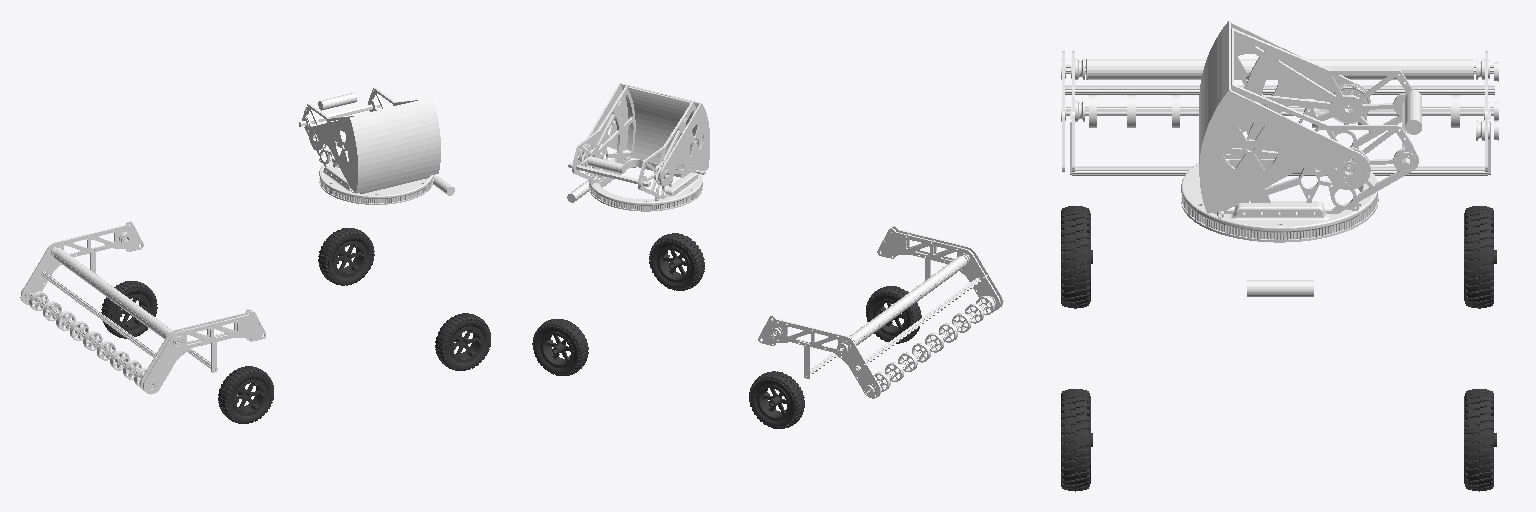
robot.urdf — swerve_robot:
<?xml version="1.0" ?>
<!-- =================================================================================== -->
<!-- |    This document was autogenerated by xacro from [local-path]/robot-frc/src/robot_urdf/urdf/swerve_robot.urdf.xacro | -->
<!-- |    EDITING THIS FILE BY HAND IS NOT RECOMMENDED                                 | -->
<!-- =================================================================================== -->
<robot name="swerve_robot" xmlns:xacro="http://www.ros.org/wiki/xacro">
  <material name="blue">
    <color rgba="0 0 0.8 1.0"/>
  </material>
  <material name="black">
    <color rgba="0.3 0.3 0.3 0.9"/>
  </material>
  <material name="white">
    <color rgba="1 1 1 0.6"/>
  </material>
  <!-- Base -->
  <link name="base_link">
    <visual>
      <geometry>
        <mesh filename="package://robot_urdf/meshes/base.stl"/>
      </geometry>
      <origin rpy="1.57075 0 1.57075" xyz="-0.08 -0.525 0.0"/>
      <material name="blue"/>
    </visual>
    <collision>
      <geometry>
        <box size="0.68 0.68 0.36"/>
      </geometry>
      <origin rpy="0 0 0" xyz="0.1 0 0.221"/>
    </collision>
    <collision>
      <geometry>
        <box size="0.3 0.68 0.12"/>
      </geometry>
      <origin rpy="0 0 0" xyz="-0.32 0 0.1"/>
    </collision>
    <inertial>
      <mass value="27"/>
      <inertia ixx="3.44123325" ixy="0.0" ixz="0.0" iyy="3.13929225" iyz="0.0" izz="1.815741"/>
    </inertial>
  </link>
  <!-- Right Wheels -->
  <link name="front_right_module">
    <inertial>
      <mass value="0.453592"/>
      <inertia ixx="0.4" ixy="0.0" ixz="0.0" iyy="0.4" iyz="0.0" izz="0.2"/>
    </inertial>
  </link>
  <joint name="base_to_front_right_module" type="continuous">
    <parent link="base_link"/>
    <child link="front_right_module"/>
    <axis xyz="0 0 1"/>
    <origin xyz="0.315 -0.29 0.028"/>
  </joint>
  <link name="front_right_wheel">
    <visual>
      <geometry>
        <mesh filename="package://robot_urdf/meshes/wheel.stl"/>
      </geometry>
      <origin rpy="0 1.57075 1.57075" xyz="0 -0.0127 0"/>
      <material name="black"/>
    </visual>
    <collision>
      <geometry>
        <cylinder length="0.0254" radius="0.0762"/>
      </geometry>
      <origin rpy="0 1.57075 1.57075" xyz="0 -0.0127 0"/>
    </collision>
    <inertial>
      <mass value="0.453592"/>
      <inertia ixx="0.4" ixy="0.0" ixz="0.0" iyy="0.4" iyz="0.0" izz="0.2"/>
    </inertial>
  </link>
  <joint name="module_to_front_right_wheel" type="continuous">
    <parent link="front_right_module"/>
    <child link="front_right_wheel"/>
    <axis xyz="0 1 0"/>
    <origin xyz="0 0 0"/>
  </joint>
  <link name="back_right_module">
    <inertial>
      <mass value="0.453592"/>
      <inertia ixx="0.4" ixy="0.0" ixz="0.0" iyy="0.4" iyz="0.0" izz="0.2"/>
    </inertial>
  </link>
  <joint name="base_to_back_right_module" type="continuous">
    <parent link="base_link"/>
    <child link="back_right_module"/>
    <axis xyz="0 0 1"/>
    <origin xyz="-0.334 -0.29 0.028"/>
  </joint>
  <link name="back_right_wheel">
    <visual>
      <geometry>
        <mesh filename="package://robot_urdf/meshes/wheel.stl"/>
      </geometry>
      <origin rpy="0 1.57075 1.57075" xyz="0 -0.0127 0"/>
      <material name="black"/>
    </visual>
    <collision>
      <geometry>
        <cylinder length="0.0254" radius="0.0762"/>
      </geometry>
      <origin rpy="0 1.57075 1.57075" xyz="0 -0.0127 0"/>
    </collision>
    <inertial>
      <mass value="0.453592"/>
      <inertia ixx="0.4" ixy="0.0" ixz="0.0" iyy="0.4" iyz="0.0" izz="0.2"/>
    </inertial>
  </link>
  <joint name="module_to_back_right_wheel" type="continuous">
    <parent link="back_right_module"/>
    <child link="back_right_wheel"/>
    <axis xyz="0 1 0"/>
    <origin xyz="0 0 0"/>
  </joint>
  <!-- Left Wheels -->
  <link name="front_left_module">
    <inertial>
      <mass value="0.453592"/>
      <inertia ixx="0.4" ixy="0.0" ixz="0.0" iyy="0.4" iyz="0.0" izz="0.2"/>
    </inertial>
  </link>
  <joint name="base_to_front_left_wheel" type="continuous">
    <parent link="base_link"/>
    <child link="front_left_module"/>
    <axis xyz="0 0 1"/>
    <origin xyz="0.315 0.29 0.028"/>
  </joint>
  <link name="front_left_wheel">
    <visual>
      <geometry>
        <mesh filename="package://robot_urdf/meshes/wheel.stl"/>
      </geometry>
      <origin rpy="0 1.57075 1.57075" xyz="0 0.0127 0"/>
      <material name="black"/>
    </visual>
    <collision>
      <geometry>
        <cylinder length="0.0254" radius="0.0762"/>
      </geometry>
      <origin rpy="0 1.57075 1.57075" xyz="0 0.0127 0"/>
    </collision>
    <inertial>
      <mass value="0.453592"/>
      <inertia ixx="0.4" ixy="0.0" ixz="0.0" iyy="0.4" iyz="0.0" izz="0.2"/>
    </inertial>
  </link>
  <joint name="module_to_front_left_wheel" type="continuous">
    <parent link="front_left_module"/>
    <child link="front_left_wheel"/>
    <axis xyz="0 1 0"/>
    <origin xyz="0 0 0"/>
  </joint>
  <link name="back_left_module">
    <inertial>
      <mass value="0.453592"/>
      <inertia ixx="0.4" ixy="0.0" ixz="0.0" iyy="0.4" iyz="0.0" izz="0.2"/>
    </inertial>
  </link>
  <joint name="base_to_back_left_module" type="continuous">
    <parent link="base_link"/>
    <child link="back_left_module"/>
    <axis xyz="0 0 1"/>
    <origin xyz="-0.334 0.29 0.028"/>
  </joint>
  <link name="back_left_wheel">
    <visual>
      <geometry>
        <mesh filename="package://robot_urdf/meshes/wheel.stl"/>
      </geometry>
      <origin rpy="0 1.57075 1.57075" xyz="0 0.0127 0"/>
      <material name="black"/>
    </visual>
    <collision>
      <geometry>
        <cylinder length="0.0254" radius="0.0762"/>
      </geometry>
      <origin rpy="0 1.57075 1.57075" xyz="0 0.0127 0"/>
    </collision>
    <inertial>
      <mass value="0.453592"/>
      <inertia ixx="0.4" ixy="0.0" ixz="0.0" iyy="0.4" iyz="0.0" izz="0.2"/>
    </inertial>
  </link>
  <joint name="module_to_back_left_wheel" type="continuous">
    <parent link="back_left_module"/>
    <child link="back_left_wheel"/>
    <axis xyz="0 1 0"/>
    <origin xyz="0 0 0"/>
  </joint>
  <!-- Intake -->
  <link name="intake_link">
    <visual>
      <geometry>
        <mesh filename="package://robot_urdf/meshes/intake.stl"/>
      </geometry>
      <origin rpy="3.14159265 0 0" xyz="-0.272 0.506 0.288"/>
      <material name="white"/>
    </visual>
    <collision>
      <geometry>
        <box size="0.36 0.63 0.09"/>
      </geometry>
      <origin rpy="0 0 0" xyz="-0.17 0 0.015"/>
    </collision>
    <collision>
      <geometry>
        <box size="0.1 0.63 0.13"/>
      </geometry>
      <origin rpy="0 0 0" xyz="-0.3 0 -0.03"/>
    </collision>
    <inertial>
      <mass value="0.453592"/>
      <inertia ixx="0.4" ixy="0.0" ixz="0.0" iyy="0.4" iyz="0.0" izz="0.2"/>
    </inertial>
  </link>
  <joint name="intake_to_base_link" type="continuous">
    <parent link="base_link"/>
    <child link="intake_link"/>
    <axis xyz="0 1 0"/>
    <origin xyz="-0.296 0 0.2"/>
  </joint>
  <!-- Turret -->
  <link name="turret_link">
    <visual>
      <geometry>
        <mesh filename="package://robot_urdf/meshes/turret.stl"/>
      </geometry>
      <origin rpy="1.57075 0 -1.57075" xyz="0.23 0.12 -0.12"/>
      <material name="white"/>
    </visual>
    <collision>
      <geometry>
        <box size="0.3 0.3 0.2"/>
      </geometry>
      <origin rpy="0 0 0" xyz="0 0.05 0.15"/>
    </collision>
    <inertial>
      <mass value="0.453592"/>
      <inertia ixx="0.4" ixy="0.0" ixz="0.0" iyy="0.4" iyz="0.0" izz="0.2"/>
    </inertial>
  </link>
  <joint name="turret_to_base_link" type="continuous">
    <parent link="base_link"/>
    <child link="turret_link"/>
    <axis xyz="0 0 1"/>
    <origin rpy="0 0 1.57075" xyz="0.232 0 0.38"/>
  </joint>
  <!-- Hood -->
  <link name="hood_link">
    <visual>
      <geometry>
        <mesh filename="package://robot_urdf/meshes/hood.stl"/>
      </geometry>
      <origin rpy="2.059442 0 -1.57075" xyz="0.222 0.12 -0.143"/>
      <material name="white"/>
    </visual>
    <inertial>
      <mass value="0.453592"/>
      <inertia ixx="0.4" ixy="0.0" ixz="0.0" iyy="0.4" iyz="0.0" izz="0.2"/>
    </inertial>
  </link>
  <joint name="hood_to_turret" type="continuous">
    <parent link="turret_link"/>
    <child link="hood_link"/>
    <axis xyz="0 1 0"/>
    <origin rpy="0 0.488692 0" xyz="0.1 0 0.11"/>
  </joint>
  <link name="shoot_angle_link">
    <inertial>
      <mass value="0.453592"/>
      <inertia ixx="0.4" ixy="0.0" ixz="0.0" iyy="0.4" iyz="0.0" izz="0.2"/>
    </inertial>
  </link>
  <joint name="shoot_angle_to_hood" type="fixed">
    <parent link="hood_link"/>
    <child link="shoot_angle_link"/>
    <axis xyz="0 1 0"/>
    <origin rpy="0 -1.57075 0" xyz="-0.23 0 0.03"/>
  </joint>
  <!-- Flywheel -->
  <link name="flywheel_link">
    <inertial>
      <mass value="0.453592"/>
      <inertia ixx="0.4" ixy="0.0" ixz="0.0" iyy="0.4" iyz="0.0" izz="0.2"/>
    </inertial>
  </link>
  <joint name="flywheel_to_turret" type="fixed">
    <parent link="turret_link"/>
    <child link="flywheel_link"/>
    <axis xyz="0 1 0"/>
    <origin rpy="0 0.0 0" xyz="0.05 0 0.11"/>
  </joint>
  <!-- Sensors -->
  <link name="t265_frame">
    <visual>
      <geometry>
        <cylinder length="0.1016" radius="0.0127"/>
      </geometry>
      <origin rpy="0 1.57075 1.57075" xyz="0 0 0"/>
      <material name="white"/>
    </visual>
    <collision>
      <geometry>
        <cylinder length="0.1016" radius="0.0127"/>
      </geometry>
      <origin rpy="0 1.57075 1.57075" xyz="0 0 0"/>
    </collision>
    <inertial>
      <mass value="0.05"/>
      <inertia ixx="0.4" ixy="0.0" ixz="0.0" iyy="0.4" iyz="0.0" izz="0.2"/>
    </inertial>
  </link>
  <joint name="base_to_t265_frame" type="fixed">
    <parent link="base_link"/>
    <child link="t265_frame"/>
    <axis xyz="0 1 0"/>
    <origin xyz="0.42545 0 0.33"/>
  </joint>
  <link name="d435_link">
    <visual>
      <geometry>
        <cylinder length="0.1016" radius="0.0127"/>
      </geometry>
      <origin rpy="0 1.57075 1.57075" xyz="0 0 0"/>
      <material name="white"/>
    </visual>
    <collision>
      <geometry>
        <cylinder length="0.1016" radius="0.0127"/>
      </geometry>
      <origin rpy="0 1.57075 1.57075" xyz="0 0 0"/>
    </collision>
    <inertial>
      <mass value="0.05"/>
      <inertia ixx="0.4" ixy="0.0" ixz="0.0" iyy="0.4" iyz="0.0" izz="0.2"/>
    </inertial>
  </link>
  <joint name="turret_to_d435_link" type="fixed">
    <parent link="turret_link"/>
    <child link="d435_link"/>
    <axis xyz="0 1 0"/>
    <origin rpy="0 -0.523599 0" xyz="0.2 0.0 0.15"/>
  </joint>
</robot>

--- Facts derived from the render (not from the file) ---
3 views of the same robot in one strip: view 1: azimuth 30°, elevation 25°; view 2: azimuth 150°, elevation 25°; view 3: azimuth 270°, elevation 25° (orthographic).
Model swerve_robot with 16 links and 15 joints (11 continuous, 4 fixed), rooted at base_link, posed every joint at zero.
Visible links, largest first — view 1: intake_link, hood_link, turret_link, back_right_wheel, front_right_wheel, front_left_wheel, back_left_wheel; view 2: turret_link, intake_link, back_left_wheel, front_right_wheel, front_left_wheel, back_right_wheel; view 3: turret_link, intake_link, hood_link, back_left_wheel, front_left_wheel, back_right_wheel, front_right_wheel, t265_frame, d435_link.
Link boxes in pixels (x1,y1,x2,y2): intake_link: [20, 221, 265, 394]; hood_link: [313, 98, 440, 193]; turret_link: [299, 88, 433, 204]; back_right_wheel: [218, 366, 273, 423]; front_right_wheel: [435, 313, 490, 370]; front_left_wheel: [318, 228, 374, 285]; back_left_wheel: [101, 281, 157, 338]; turret_link: [568, 83, 709, 211]; intake_link: [758, 226, 1003, 398]; back_left_wheel: [749, 371, 804, 428]; front_right_wheel: [649, 233, 704, 290]; front_left_wheel: [532, 319, 588, 375]; back_right_wheel: [866, 286, 921, 343]; turret_link: [1181, 21, 1418, 242]; intake_link: [1061, 51, 1498, 175]; hood_link: [1199, 21, 1369, 213]; back_left_wheel: [1464, 206, 1496, 308]; front_left_wheel: [1464, 389, 1496, 491]; back_right_wheel: [1061, 206, 1092, 308]; front_right_wheel: [1061, 389, 1092, 491]; t265_frame: [1247, 280, 1313, 296]; d435_link: [1405, 91, 1421, 134].
Size in the robot's own frame: 1.09 by 0.6581 by 0.6746 metres.
Meshes: 5 distinct files referenced, 7 mesh visuals loaded (4 binary STL); not drawn: 1 (reference not matched to a file when rendering).